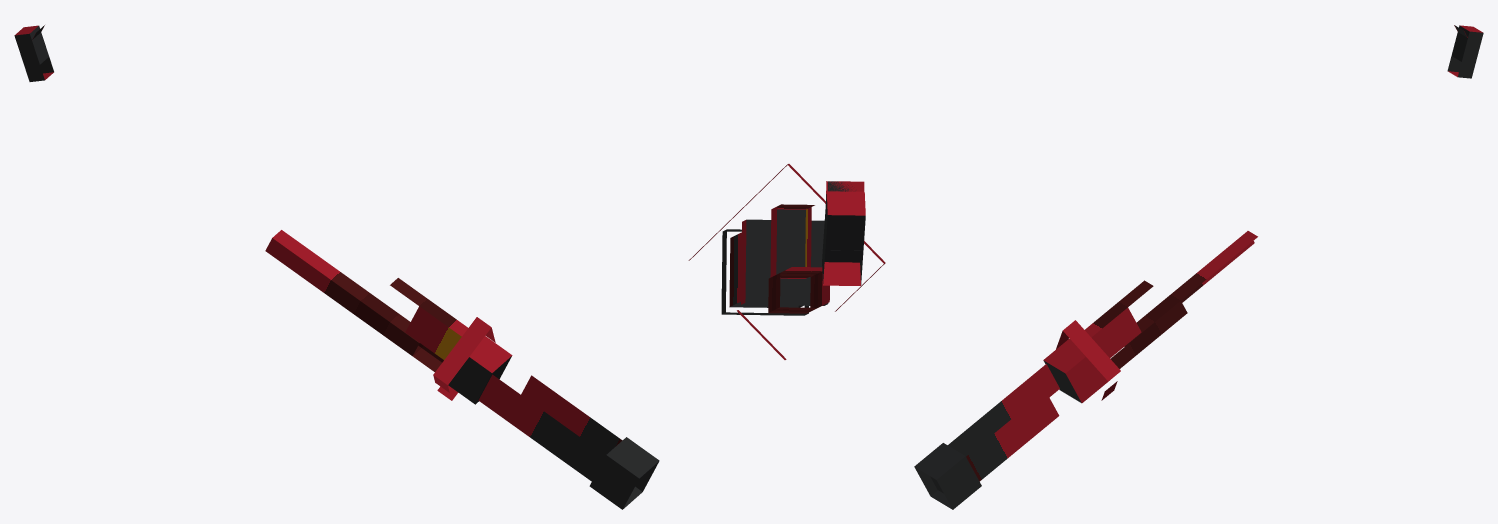
Rendered from katana.obj.
The picture shows the model from 3 angles, left to right: view 1: azimuth 30°, elevation 25°; view 2: azimuth 150°, elevation 25°; view 3: azimuth 270°, elevation 25°; orthographic projection. The views are drawn at different scales.
Visible parts, largest first — view 1: cube.005, cube.003, cube.006, cube, cube.008, cube.004, cube.002; view 2: cube.008, cube.002, cube, cube.003, cube.005, cube.006, cube.004, cube.001; view 3: cube.005, cube.003, cube.006, cube.008, cube, cube.004, cube.002.
Part boxes in pixels (x1,y1,x2,y2): cube.005: (478,374,622,481); cube.003: (265,230,443,371); cube.006: (589,437,659,509); cube: (32,25,467,359); cube.008: (448,336,512,404); cube.004: (433,317,495,400); cube.002: (14,25,53,81); cube.008: (741,219,828,305); cube.002: (822,191,865,285); cube: (770,181,861,278); cube.003: (768,267,829,313); cube.005: (729,232,803,307); cube.006: (721,229,808,315); cube.004: (688,164,885,359); cube.001: (826,181,864,198); cube.005: (930,364,1059,493); cube.003: (1110,231,1257,368); cube.006: (914,443,981,509); cube.008: (1043,338,1109,403); cube: (1085,25,1466,357); cube.004: (1056,320,1120,400); cube.002: (1447,25,1483,78).
Bounding box in the file's own units: 2.44 × 2.32 × 3.54.
